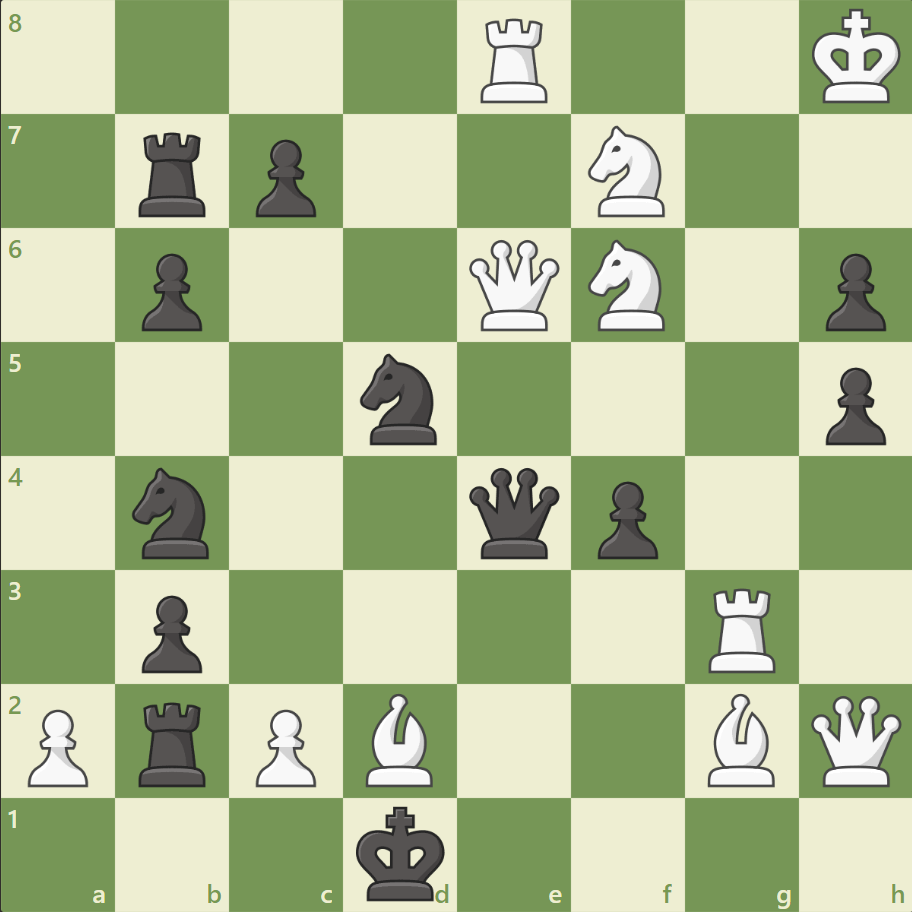B: (358, 687, 442, 790), (698, 687, 782, 790)
K: (806, 4, 906, 112)
N: (579, 234, 676, 337), (579, 121, 676, 223)
P: (20, 700, 95, 791), (247, 700, 322, 791)
Q: (464, 236, 563, 335), (805, 690, 904, 789)
R: (473, 12, 556, 109), (700, 579, 783, 676)
k: (351, 798, 451, 906)
n: (124, 461, 222, 564), (351, 348, 449, 450)
p: (247, 132, 322, 223), (133, 246, 208, 337), (133, 586, 208, 677), (815, 246, 889, 337), (815, 359, 889, 450), (588, 473, 662, 564)
q: (464, 463, 563, 562)
r: (133, 125, 215, 222), (133, 693, 215, 790)
